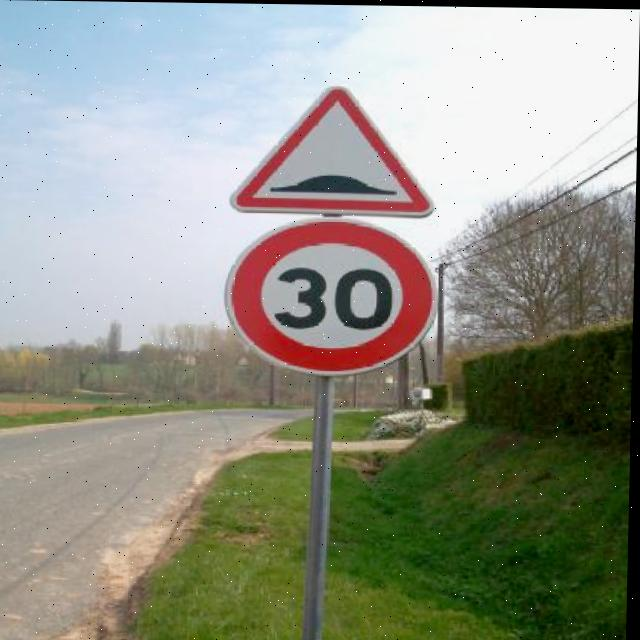Speed limit 30: (222, 214, 442, 378)
